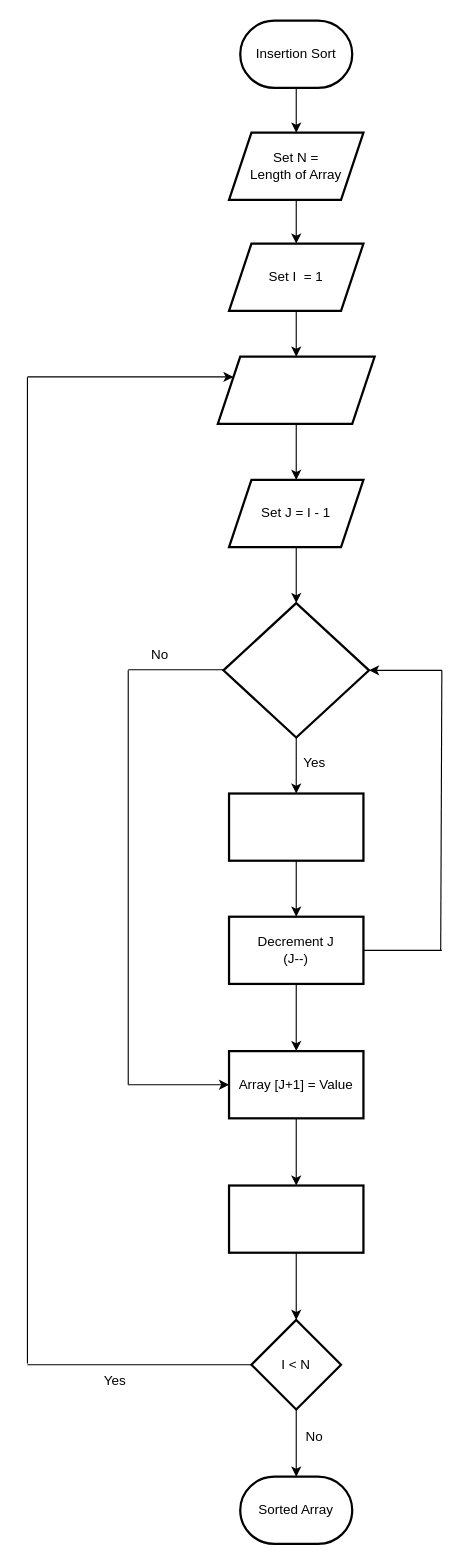
The diagram is 470 pixels wide and 1564 high, and some of its shapes have lost their labels. The shapes that lost their labels are listed below. From the top down, each one's box as (x1, y1, x2, y2) in pixels, then its label:
(216, 355, 375, 424): Set Value = Array [I]
(222, 601, 370, 738): J >= 0 AND Array[J] > Value
(227, 792, 364, 861): Set Array[J+1] = Array[J]
(227, 1184, 364, 1253): Increment I (I++)
